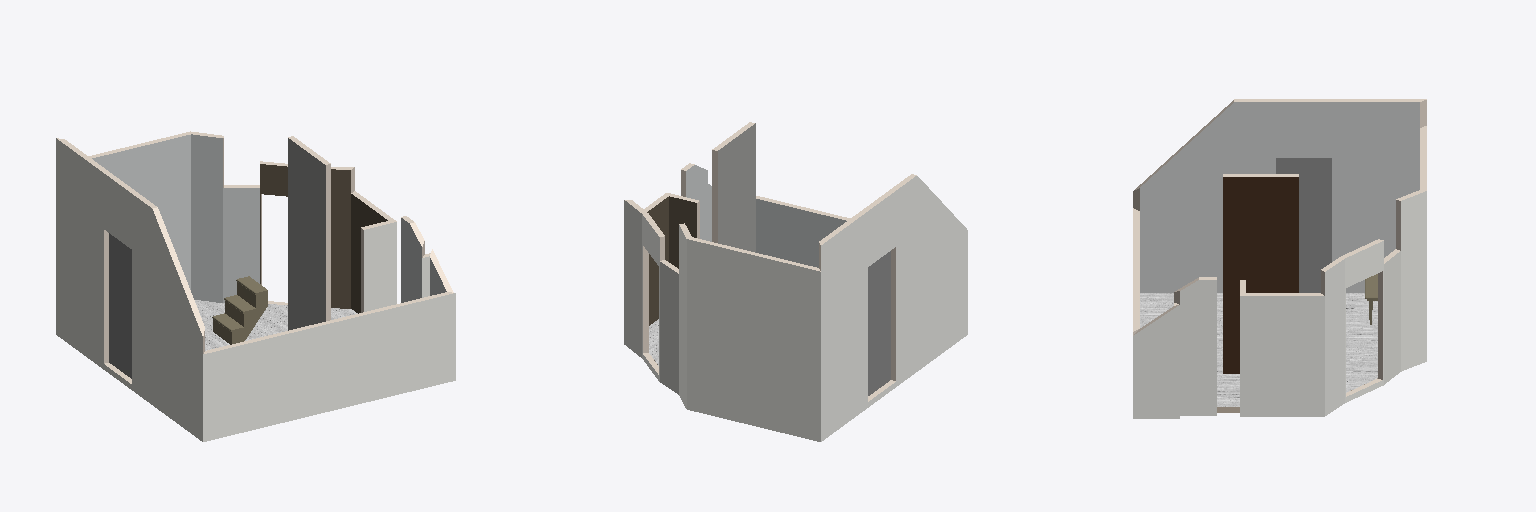
3 views of the same model, side by side, from view 1: azimuth 30°, elevation 25°; view 2: azimuth 150°, elevation 25°; view 3: azimuth 270°, elevation 25° (orthographic).
Parts seen in each view (by area): view 1: Object_4, Object_9, Object_59, Object_13, Object_38, Object_28, Object_33, Object_49, Object_2, Object_70, Object_68, Object_18 (+7 smaller); view 2: Object_14, Object_4, Object_59, Object_8, Object_34, Object_68, Object_29, Object_39, Object_48, Object_18, Object_23, Object_64 (+4 smaller); view 3: Object_3, Object_19, Object_58, Object_24, Object_70, Object_44, Object_39, Object_68, Object_34, Object_29, Object_64, Object_10 (+3 smaller).
Boxes of the visible parts, box(x1,y1,x2,y2) form: Object_4: box(56, 138, 202, 441); Object_9: box(203, 293, 455, 441); Object_59: box(288, 138, 325, 330); Object_13: box(92, 135, 190, 289); Object_38: box(191, 134, 222, 302); Object_28: box(223, 188, 259, 302); Object_33: box(331, 169, 350, 308); Object_49: box(364, 222, 396, 311); Object_2: box(212, 276, 267, 344); Object_70: box(195, 300, 357, 350); Object_68: box(109, 233, 131, 377); Object_18: box(351, 194, 387, 313); Object_14: box(687, 239, 820, 441); Object_4: box(821, 176, 967, 441); Object_59: box(718, 123, 755, 252); Object_8: box(756, 199, 846, 267); Object_34: box(624, 200, 641, 357); Object_68: box(868, 251, 890, 395); Object_29: box(660, 262, 678, 394); Object_39: box(679, 225, 686, 408); Object_48: box(669, 196, 696, 268); Object_18: box(647, 197, 668, 325); Object_23: box(686, 165, 707, 240); Object_64: box(642, 214, 659, 381); Object_3: box(1140, 102, 1419, 292); Object_19: box(1240, 296, 1324, 416); Object_58: box(1223, 177, 1298, 373); Object_24: box(1180, 280, 1216, 415); Object_70: box(1140, 293, 1377, 406); Object_44: box(1133, 305, 1179, 418); Object_39: box(1401, 191, 1426, 371); Object_68: box(1276, 158, 1331, 292); Object_34: box(1325, 259, 1344, 415); Object_29: box(1384, 251, 1400, 384); Object_64: box(1345, 241, 1383, 402); Object_10: box(1133, 208, 1139, 331).
Bounding box in the file's own units: 4.59 × 3.53 × 4.61.
71 materials, 1 textured.